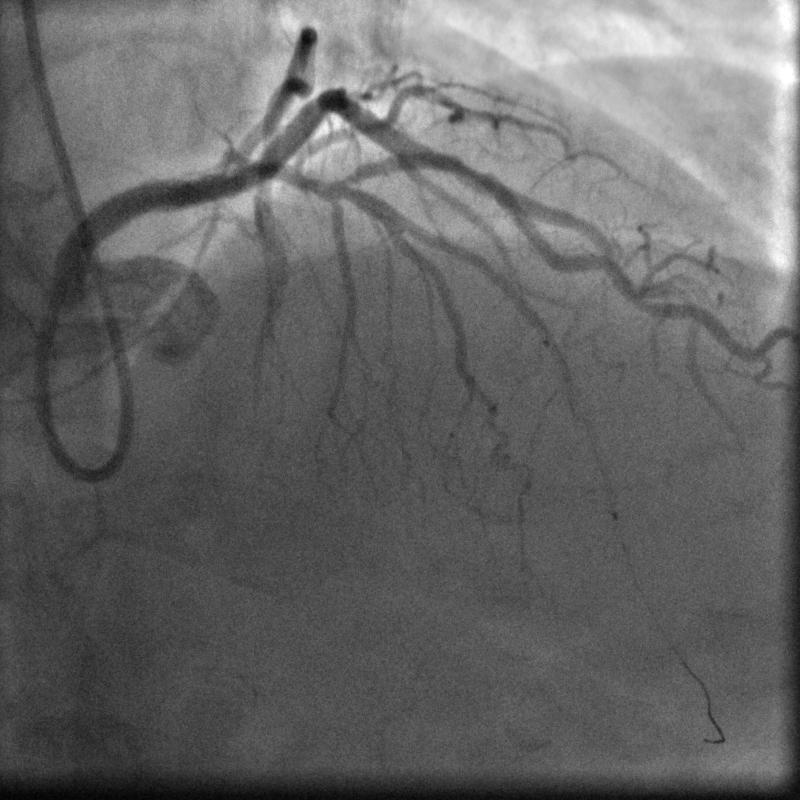Stenosis: (443, 147, 489, 195)
